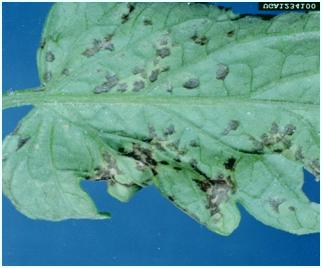Tomato leaf bacterial spot: (4, 9, 321, 237)
